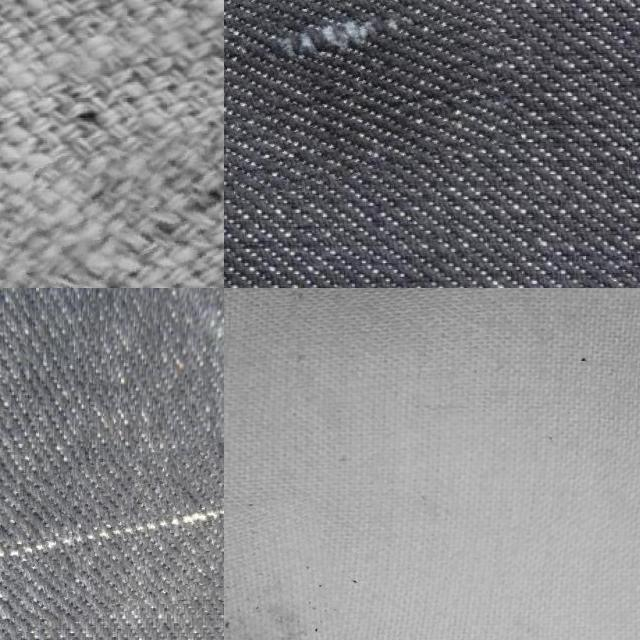Hole: (224, 504, 360, 640)
Thread_other: (224, 0, 509, 186), (0, 439, 224, 640), (0, 131, 224, 288)
